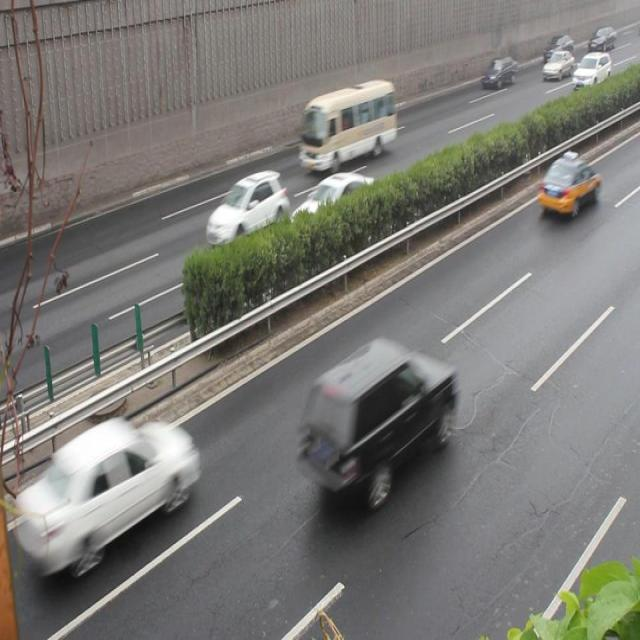car: (298, 340, 456, 496), (39, 412, 195, 560), (205, 167, 288, 247), (287, 171, 376, 239), (535, 152, 599, 212), (479, 52, 515, 87)
